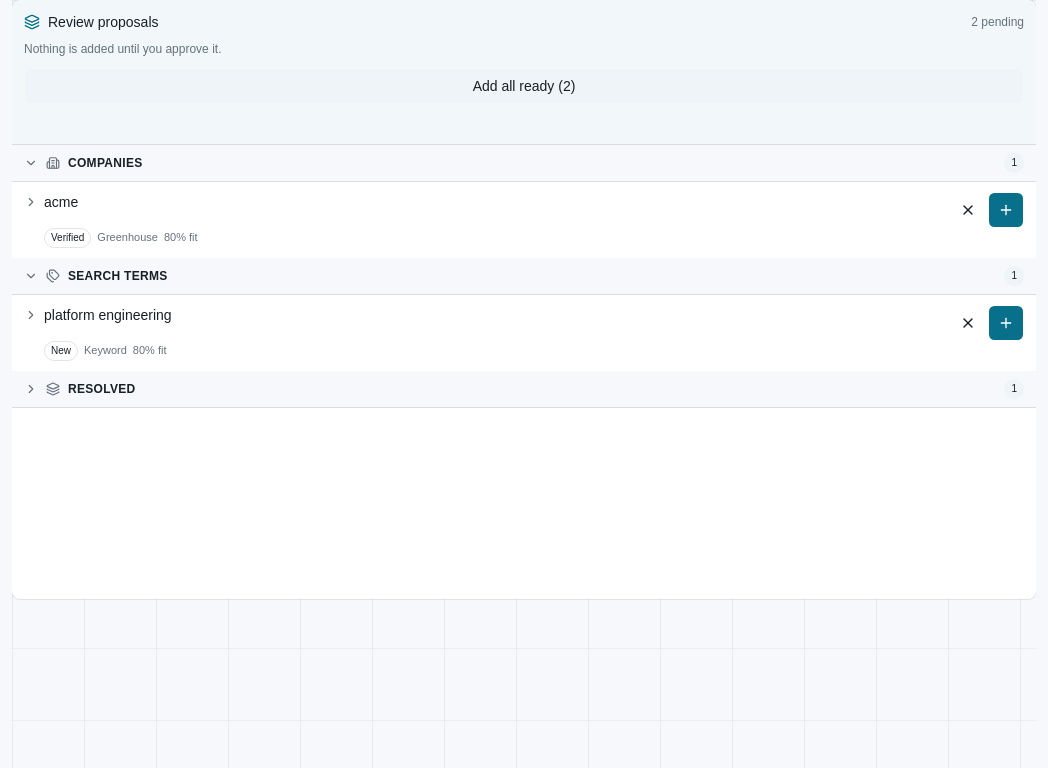
it: groups companies, terms, and resolved rows into collapsible sections
Expected: the 3rd icon "1" is shown, [1004,378,1024,398]
Expected: the text "gone" is not shown
Click the button "Resolved 1" at {"x": 102, "y": 388}, box [12,370,1036,408]
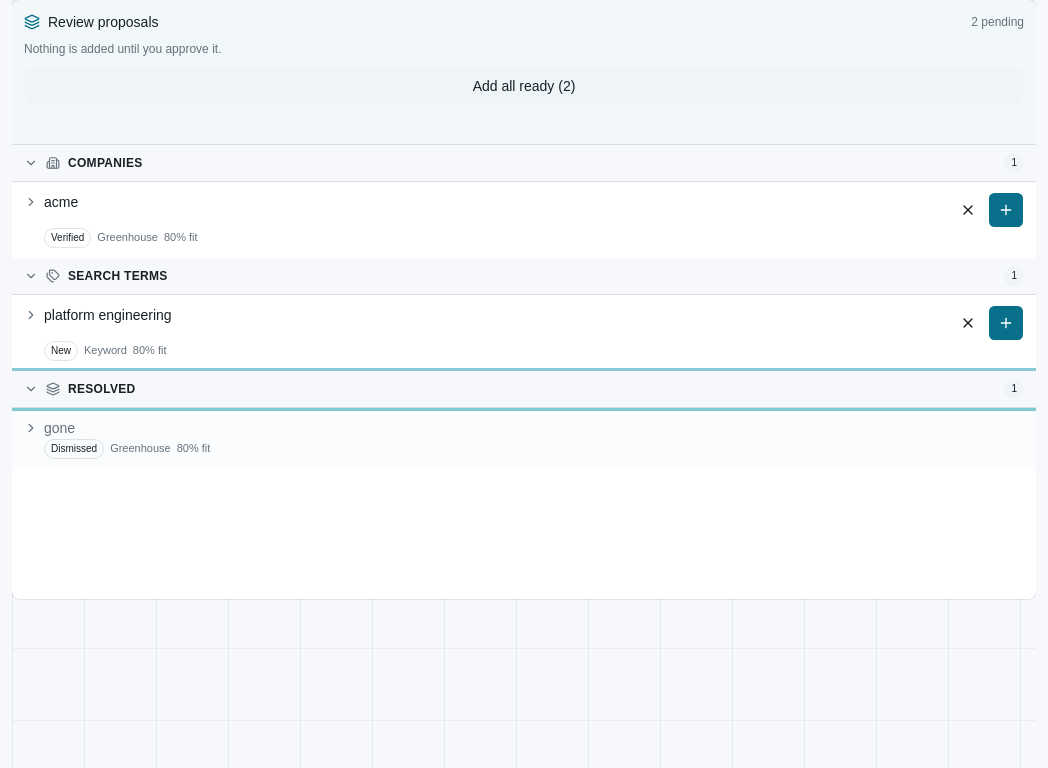
Now the text "gone" is shown, box [44,420,75,437]
